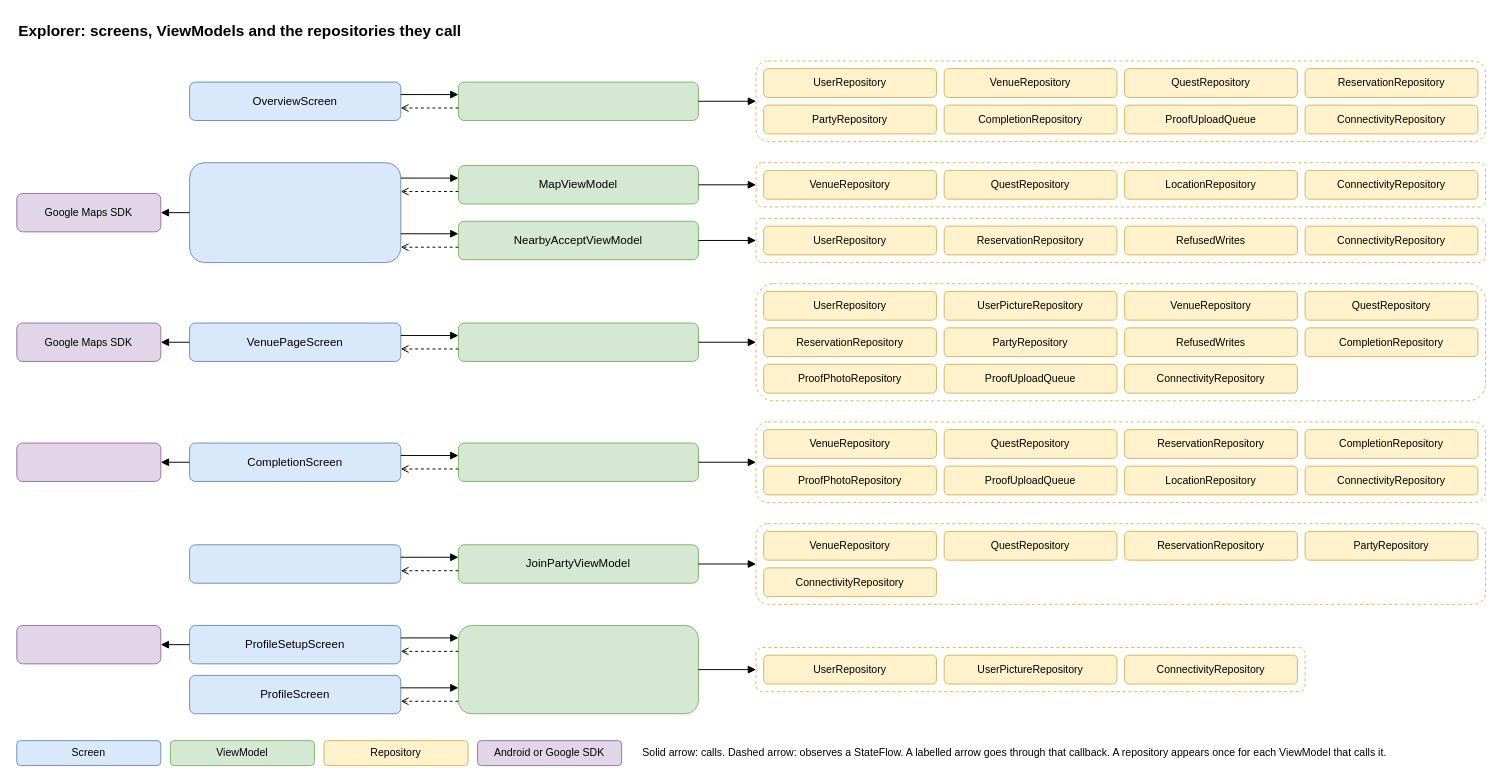
Some shapes in this 1502 by 782 pixel diagram are drawn without their labels. Here are the shapes that lost their labels. From the top down, the centre of each, then its label:
At (x=577, y=100): "OverviewViewModel".
At (x=295, y=212): "MapScreen".
At (x=577, y=341): "VenuePageViewModel".
At (x=88, y=461): "Camera and photo picker".
At (x=577, y=461): "CompletionViewModel".
At (x=295, y=563): "JoinPartyScreen".
At (x=88, y=644): "Photo picker".
At (x=577, y=669): "ProfileSetupViewModel".
